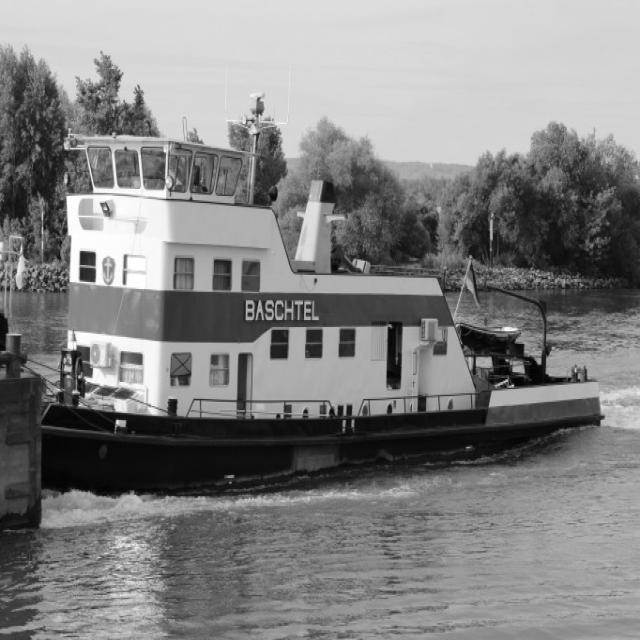tugboat: (1, 89, 613, 514)
